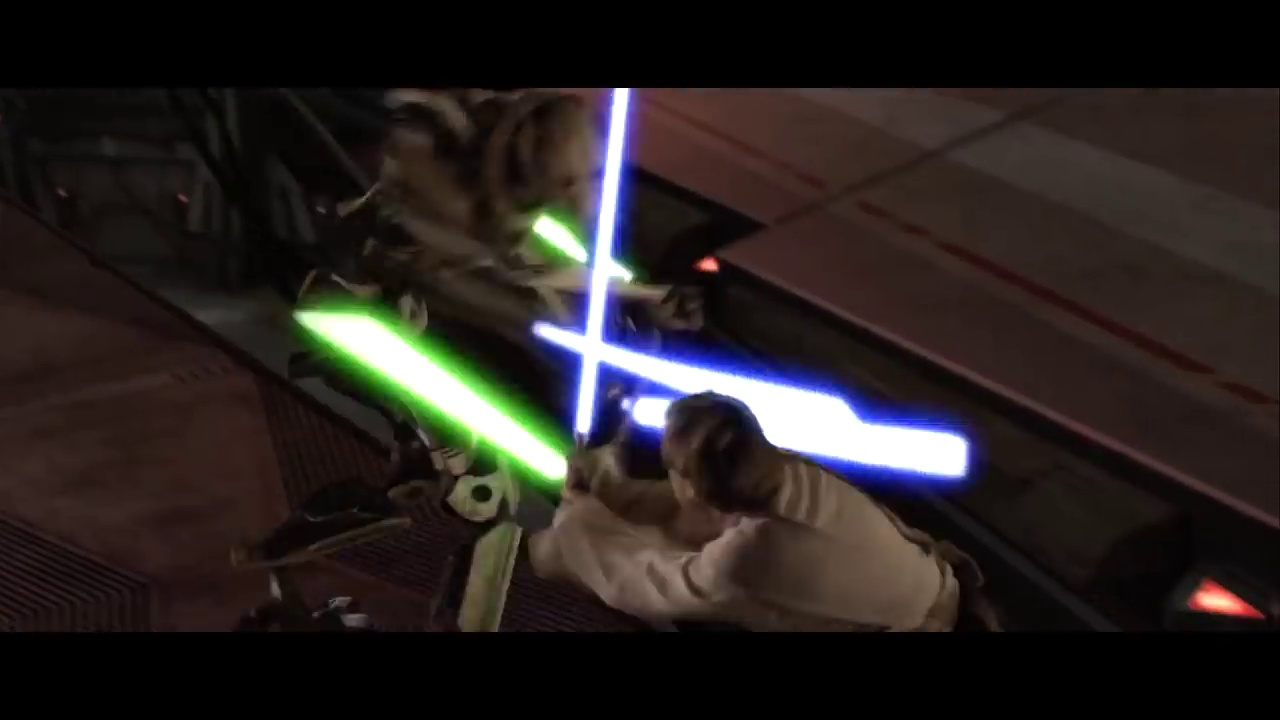lightsaber: (531, 306, 986, 490), (275, 299, 572, 498), (539, 90, 647, 445)
